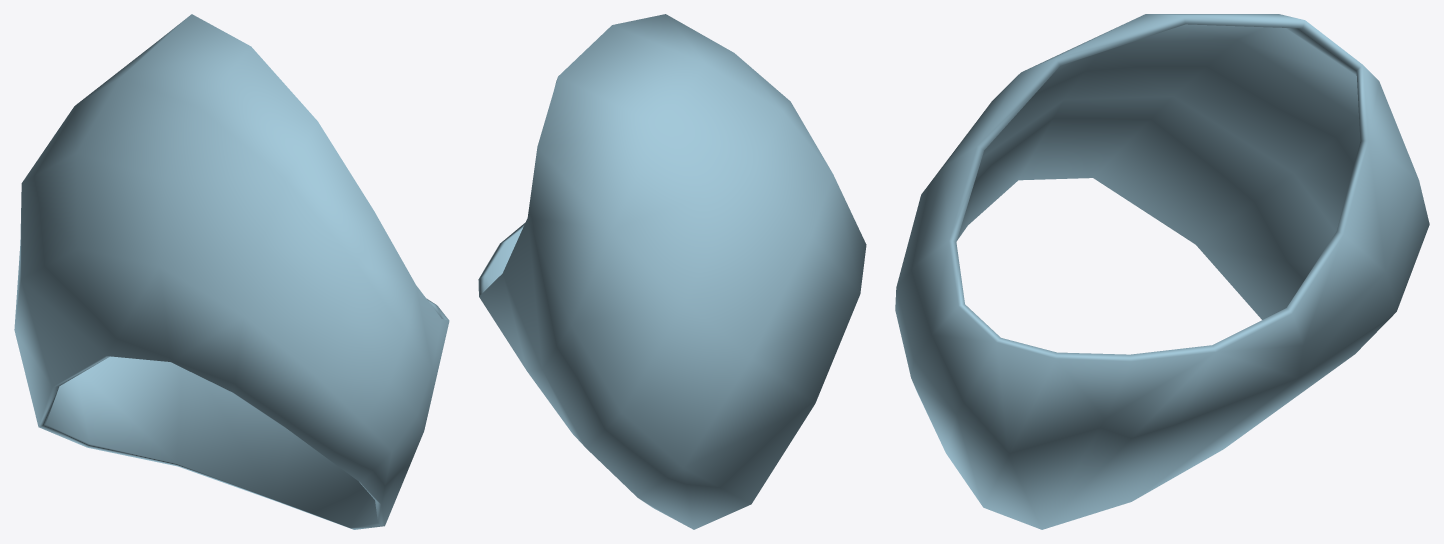
File: articulacoes-articular-capsule-of-sternoclavicular-joint-l.glb
3 views of the same model, side by side, from view 1: azimuth 30°, elevation 25°; view 2: azimuth 150°, elevation 25°; view 3: azimuth 270°, elevation 25° (orthographic). The views are drawn at different scales.
Parts seen in each view (by area): view 1: Articular capsule of sternoclavicular joint.l; view 2: Articular capsule of sternoclavicular joint.l; view 3: Articular capsule of sternoclavicular joint.l.
Boxes of the visible parts, bbox=[...] form: Articular capsule of sternoclavicular joint.l: bbox=[14, 14, 449, 529]; Articular capsule of sternoclavicular joint.l: bbox=[478, 14, 866, 529]; Articular capsule of sternoclavicular joint.l: bbox=[895, 14, 1429, 529].
Bounding box in the file's own units: 0.0235 × 0.0311 × 0.0305.
